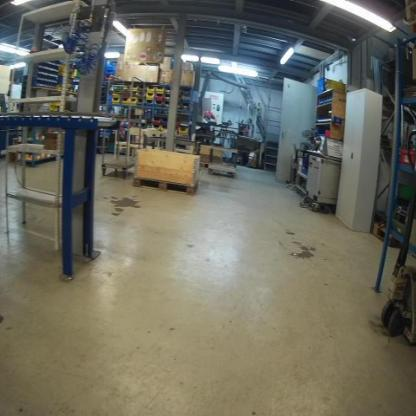pallet: (131, 174, 200, 196), (373, 221, 398, 248), (404, 1, 416, 34), (199, 161, 211, 170)
pallet_truck: (372, 127, 415, 351)
